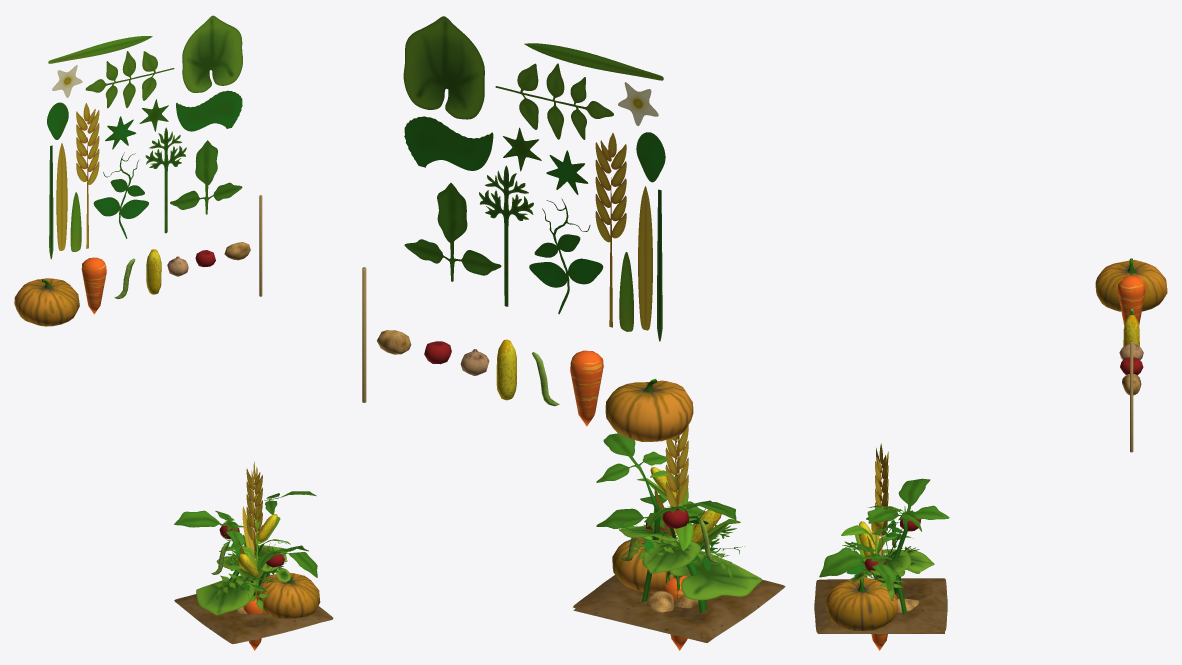
The model's file is Crops.fbx.
3 views of the same model, side by side, from view 1: azimuth 30°, elevation 25°; view 2: azimuth 150°, elevation 25°; view 3: azimuth 270°, elevation 25° (orthographic). The views are drawn at different scales.
Visible parts, largest first — view 1: Pumpkin_single, Pumpkin_leaf, Bed_low, Pumpkin_low, Tomato_single, Peas_leaf_extra, Potato_leaf, Wheat_spike, Tomato_leaf, Peas_stick, Wheat_single, Corn_single (+11 smaller); view 2: Pumpkin_leaf, Bed_low, Pumpkin_single, Pumpkin_low, Tomato_single, Peas_leaf_extra, Potato_leaf, Wheat_spike, Tomato_leaf, Peas_stick, Carrot_leaf, Wheat_leaf (+16 smaller); view 3: Pumpkin_single, Bed_low, Tomato_single, Pumpkin_low, Carrot_low, Wheat_single, Corn_single.
Boxes of the visible parts, x1,y1,x2,y2 form: Pumpkin_single: [196, 545, 320, 618]; Pumpkin_leaf: [182, 15, 242, 92]; Bed_low: [174, 575, 333, 644]; Pumpkin_low: [14, 278, 79, 326]; Tomato_single: [174, 491, 317, 577]; Peas_leaf_extra: [176, 90, 242, 131]; Potato_leaf: [85, 51, 174, 108]; Wheat_spike: [76, 103, 99, 248]; Tomato_leaf: [170, 140, 242, 214]; Peas_stick: [93, 152, 148, 238]; Wheat_single: [239, 461, 270, 595]; Corn_single: [219, 507, 290, 595]; Pumpkin_leaf: [403, 16, 484, 119]; Bed_low: [573, 575, 785, 641]; Pumpkin_single: [612, 525, 762, 613]; Pumpkin_low: [605, 379, 693, 441]; Tomato_single: [596, 433, 736, 602]; Peas_leaf_extra: [404, 116, 493, 170]; Potato_leaf: [495, 63, 613, 139]; Wheat_spike: [595, 133, 626, 327]; Tomato_leaf: [404, 183, 501, 281]; Peas_stick: [529, 198, 603, 314]; Carrot_leaf: [479, 165, 533, 306]; Wheat_leaf: [638, 186, 652, 330]; Pumpkin_single: [826, 549, 934, 630]; Bed_low: [814, 578, 947, 633]; Tomato_single: [819, 478, 949, 614]; Pumpkin_low: [1095, 258, 1167, 311]; Carrot_low: [1117, 275, 1145, 325]; Wheat_single: [867, 443, 909, 582]; Corn_single: [841, 503, 912, 582].
Size of the model in its own units: 4.84 by 10.28 by 5.56.
Materials: 2 (2 with a texture image).
